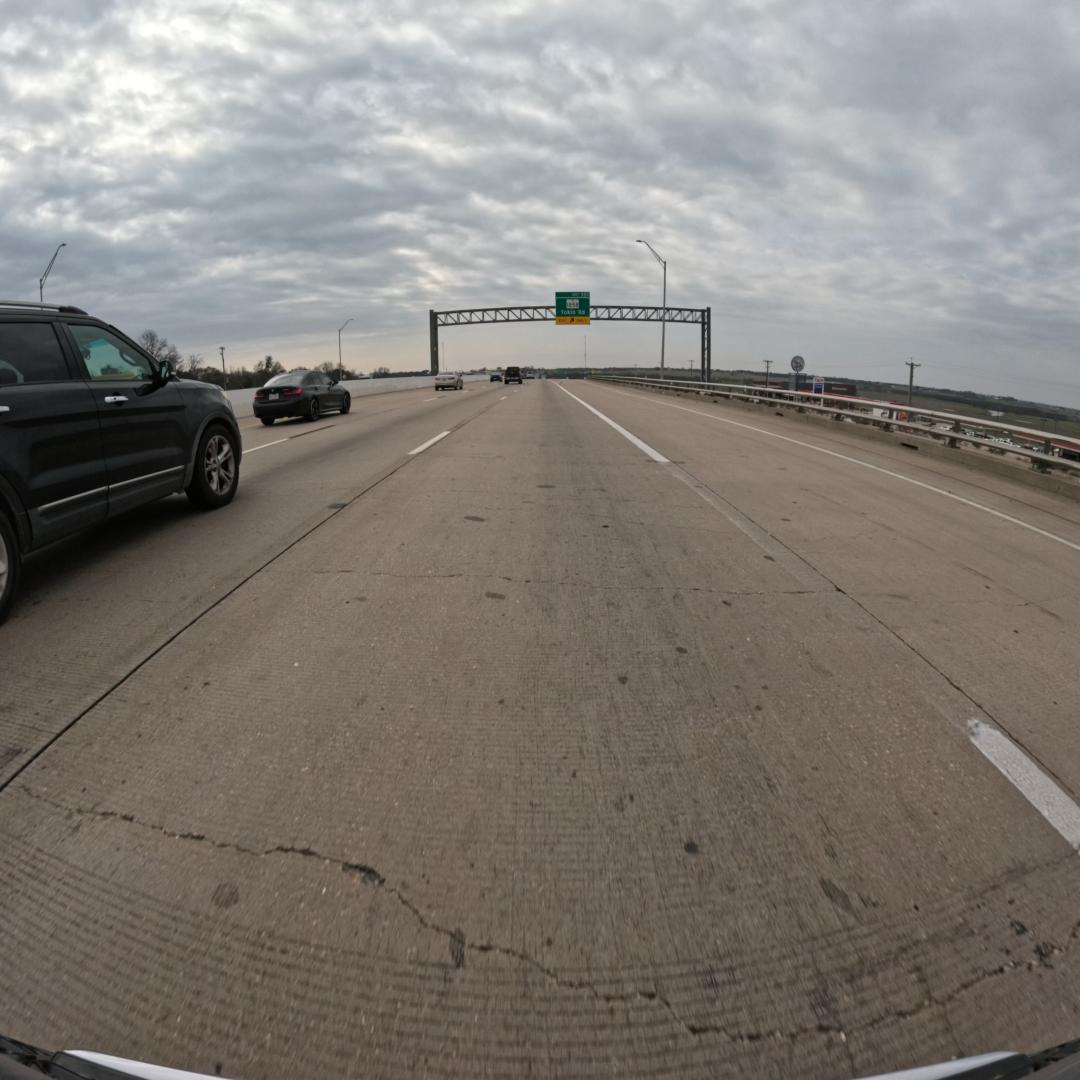lane0: (0, 385, 1080, 1077)
lane1: (0, 388, 508, 790)
